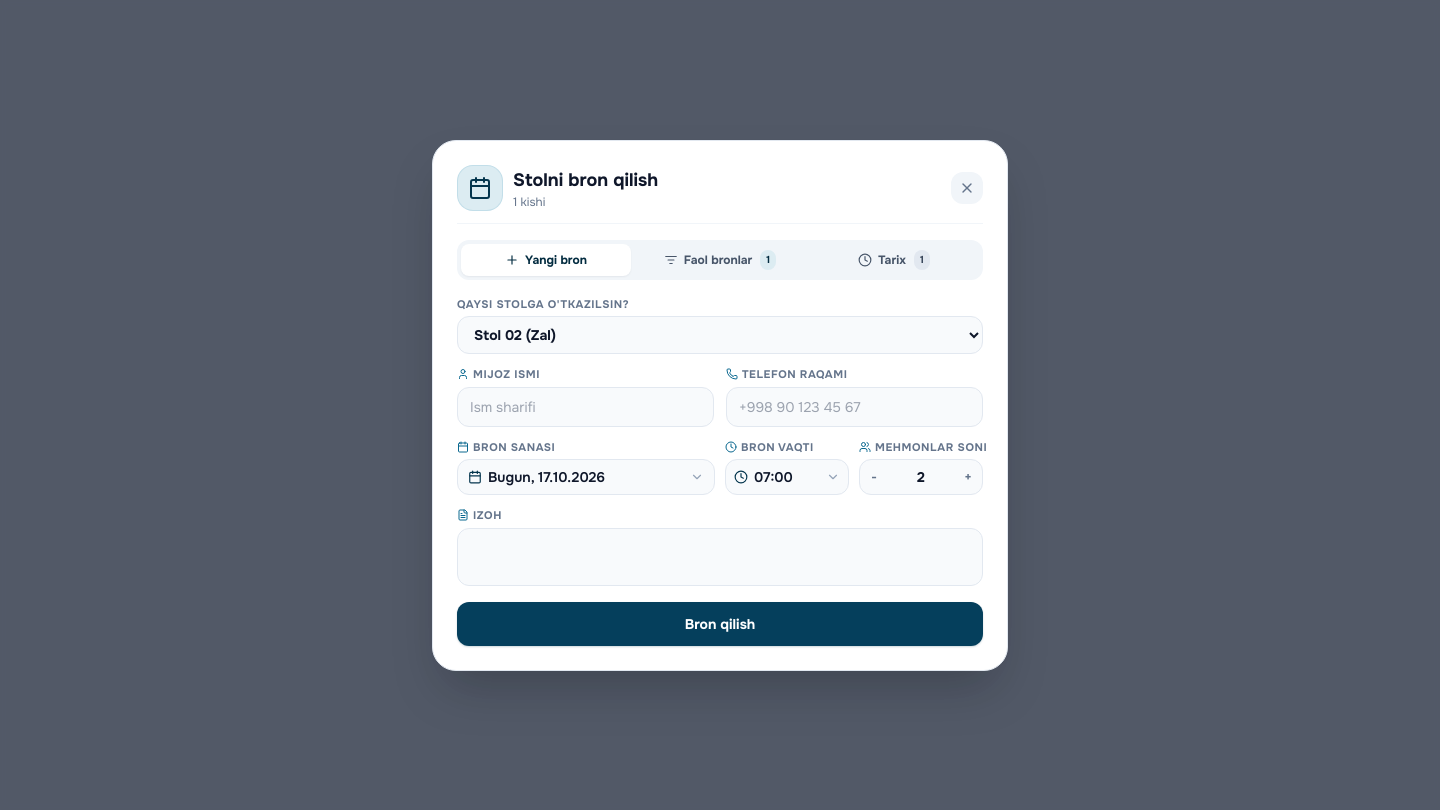
it: ReservationModal — ro'yxatlar › faol va tarix ro'yxatlari ajratiladi
What coordinates should you click on to do the following:
click the button "Faol bronlar 1"
I would click on:
 (720, 260)
Its box is [635, 244, 805, 276].
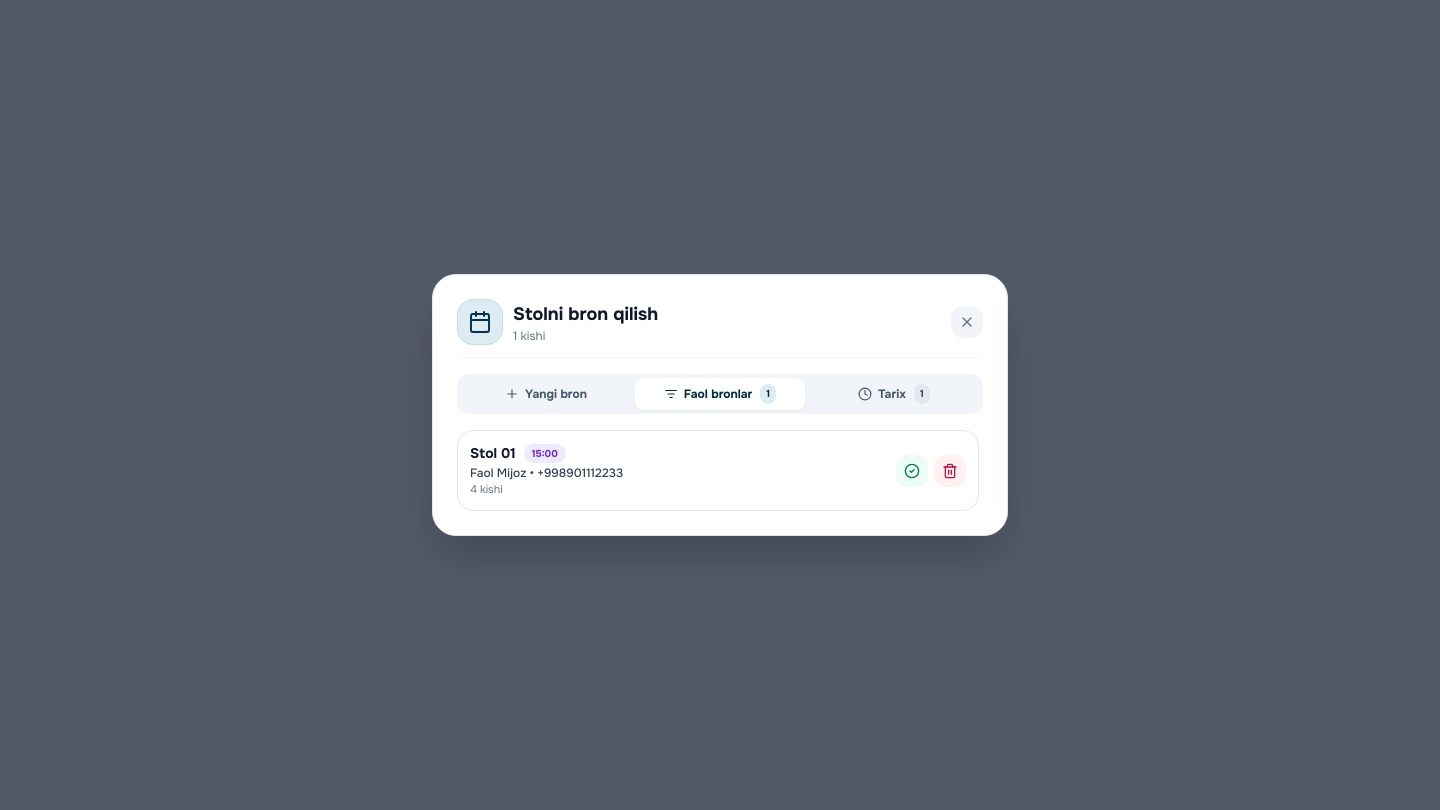
Expected: the text "Bekor Mijoz" is not shown
Now the text "Faol Mijoz • +998901112233" is shown, box [470, 465, 623, 481]
Tarixda esa faqat bekor qilingani ko'rinadi.
What coordinates should you click on to do the following:
click the button "Tarix 1"
I would click on:
 (894, 394)
Its box is [809, 378, 979, 410].
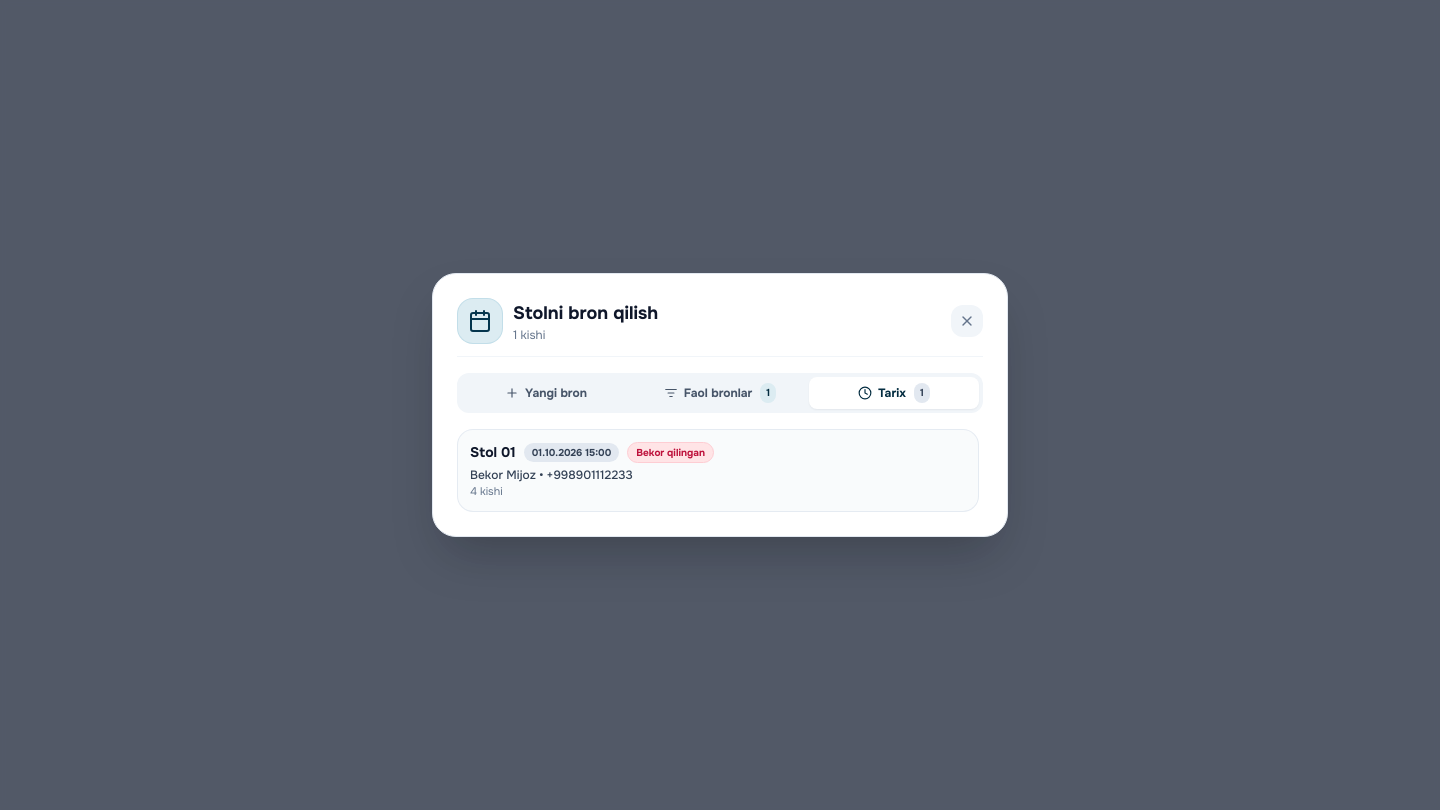
Now the text "Bekor Mijoz • +998901112233" is shown, box [470, 467, 633, 483]
Now the text "Faol Mijoz" is gone
Now the text "Bekor qilingan" is shown, box [627, 442, 714, 463]
